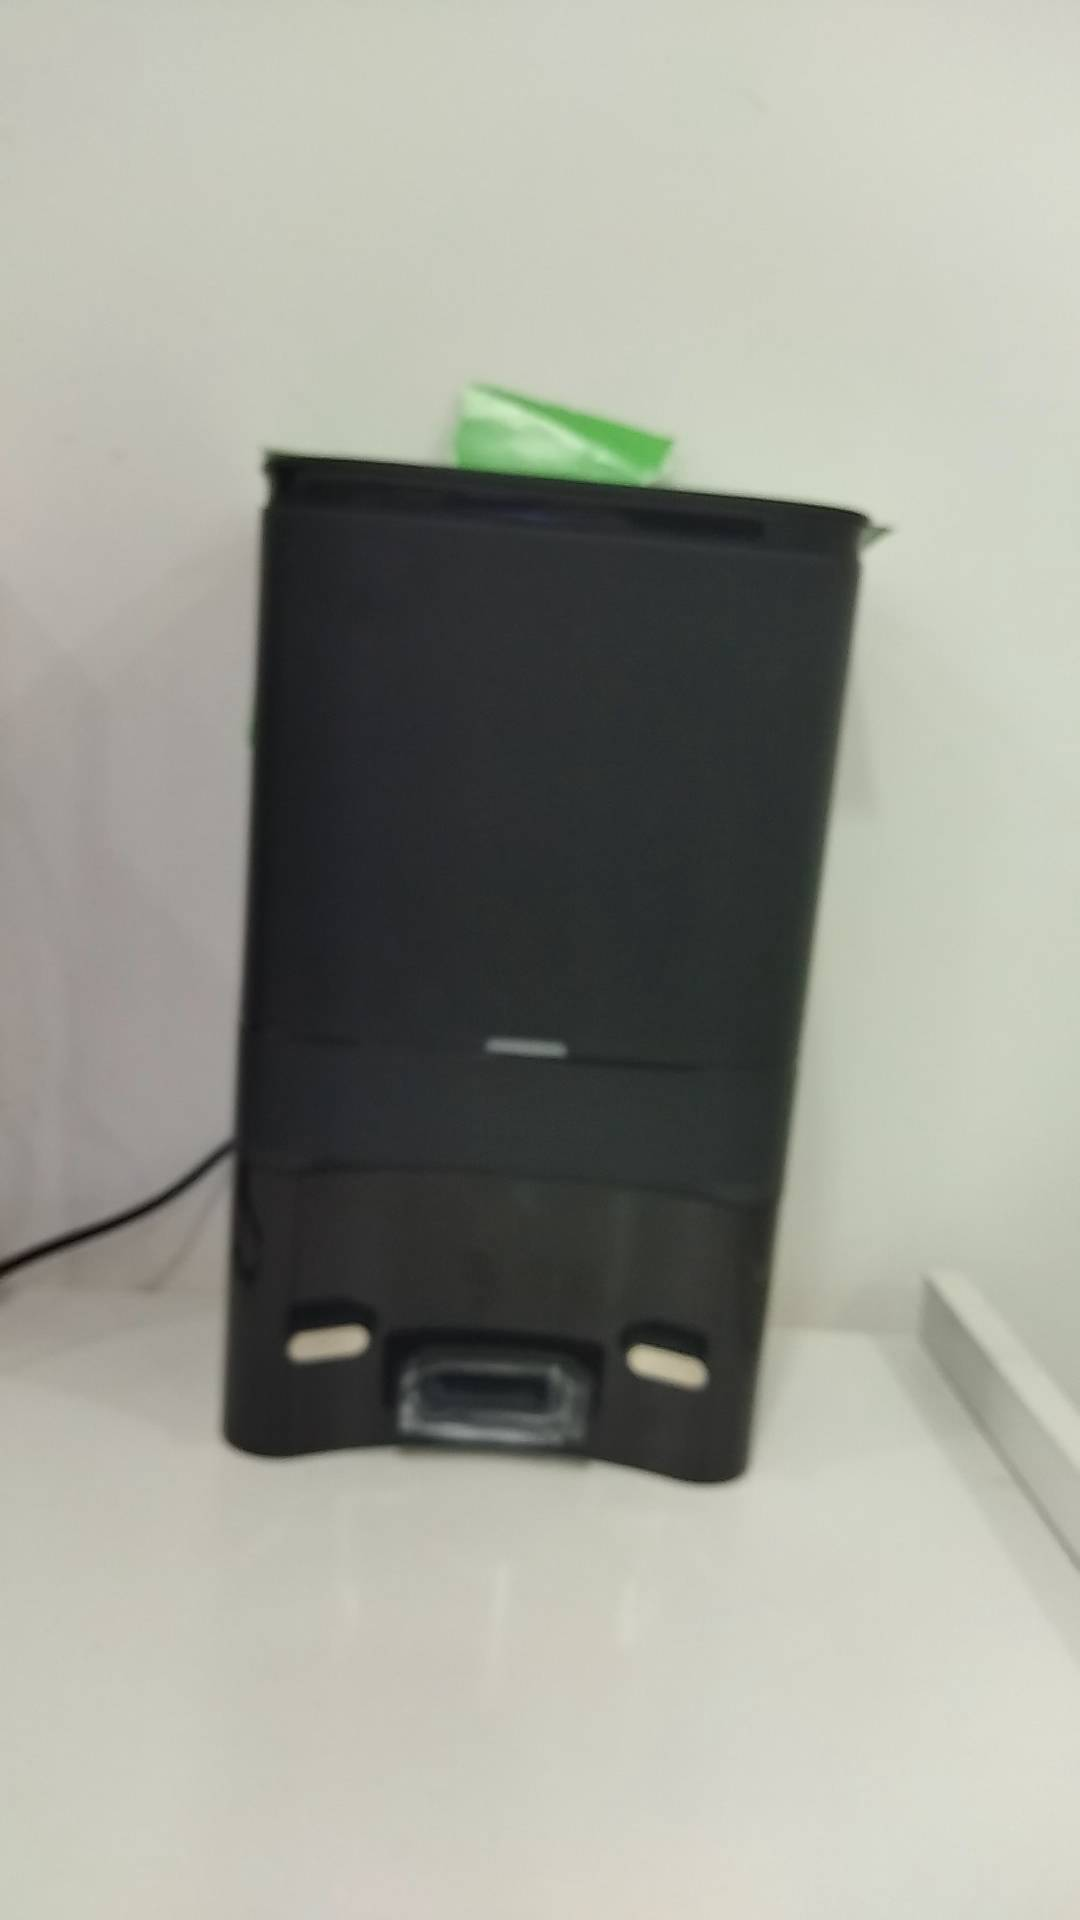dust collecting barrel: (222, 452, 876, 1486)
